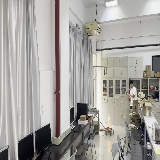fire: (106, 114, 111, 130)
